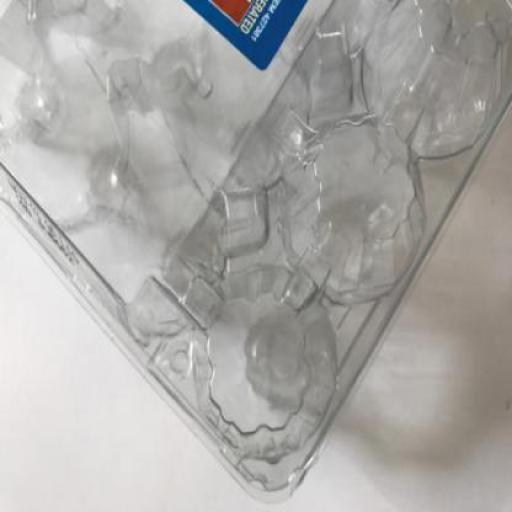plastic: (0, 0, 511, 500)
